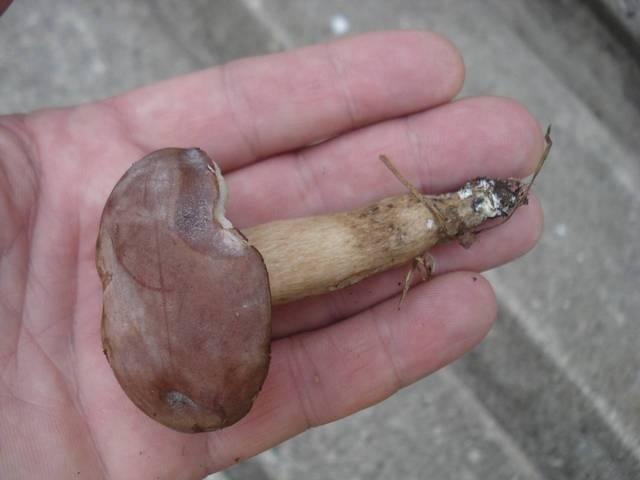Non-edible Mushroom: (93, 126, 551, 433)
